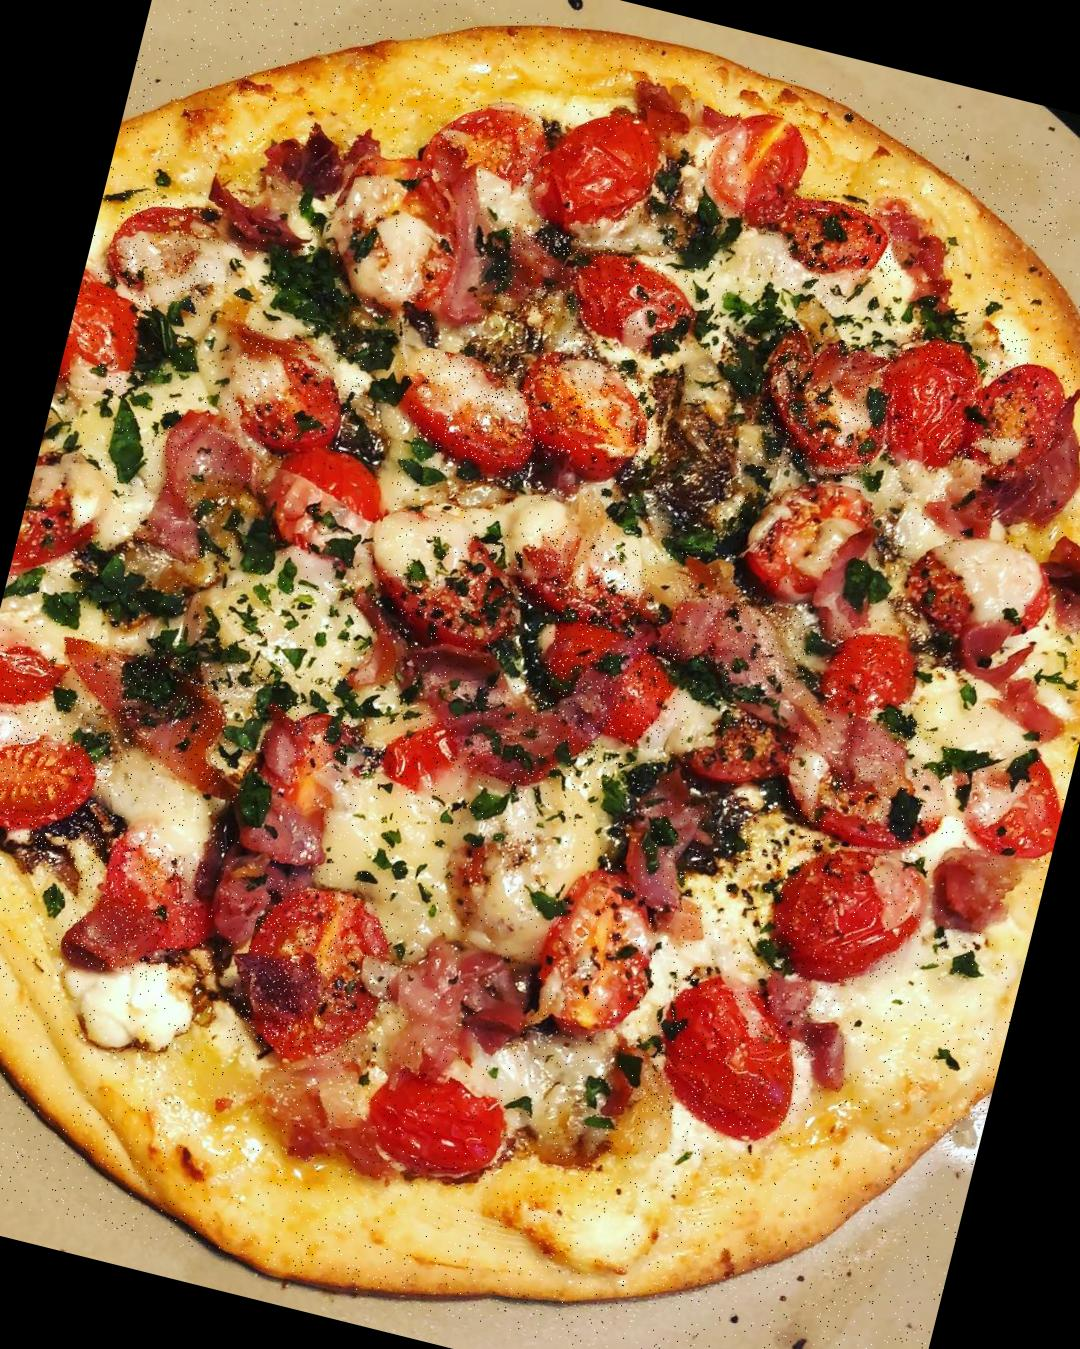Ham: (884, 521, 1080, 744), (327, 158, 529, 334), (40, 630, 242, 785), (61, 832, 209, 988), (130, 403, 267, 570), (660, 579, 821, 695), (398, 928, 541, 1034), (462, 704, 603, 807), (229, 748, 354, 863), (622, 790, 724, 917), (486, 219, 588, 324), (929, 844, 1034, 939)
Pizza: (0, 0, 1080, 1349)
Tomatoes: (227, 877, 393, 1070), (644, 972, 822, 1143), (778, 700, 958, 854), (764, 834, 927, 995), (529, 863, 670, 1045), (359, 507, 531, 656), (754, 325, 896, 485), (529, 89, 677, 235), (399, 346, 551, 479), (958, 327, 1080, 488), (734, 471, 875, 609), (534, 615, 682, 747), (522, 348, 671, 474), (220, 326, 367, 453), (696, 95, 816, 237), (0, 713, 115, 857), (518, 525, 663, 634), (266, 436, 396, 555), (54, 268, 160, 409), (875, 330, 984, 465), (960, 742, 1074, 866), (565, 241, 699, 348), (104, 187, 222, 303), (780, 187, 908, 284), (248, 701, 352, 819), (8, 479, 108, 597), (426, 91, 551, 186), (822, 622, 925, 723), (379, 705, 474, 808), (0, 640, 78, 726)
